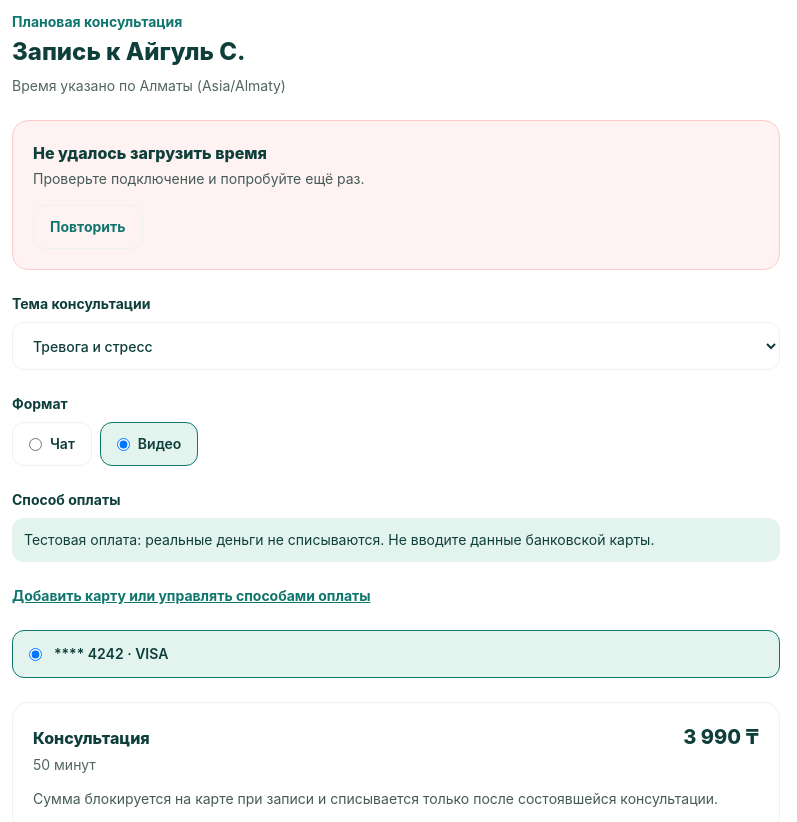
Test: BookingFlow › ошибку загрузки объявляет и даёт повторить запрос
This screenshot has width=797, height=822.
Expected: the message "Не удалось загрузить время" is shown, left=12, top=120, right=780, bottom=270
Click the button "Повторить".
click(88, 227)  # box left=33, top=205, right=143, bottom=249
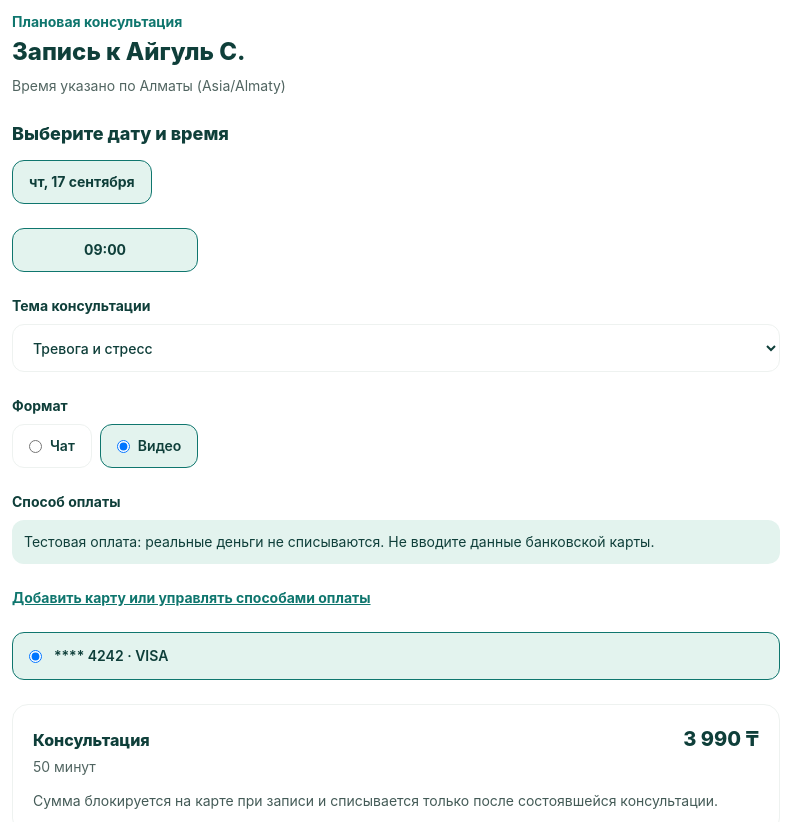
Expected: the radio button labelled "09:00" is checked, left=12, top=228, right=198, bottom=272
